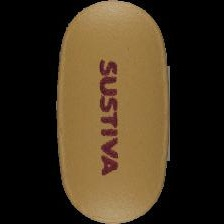0056-0510: (0, 0, 224, 224)
